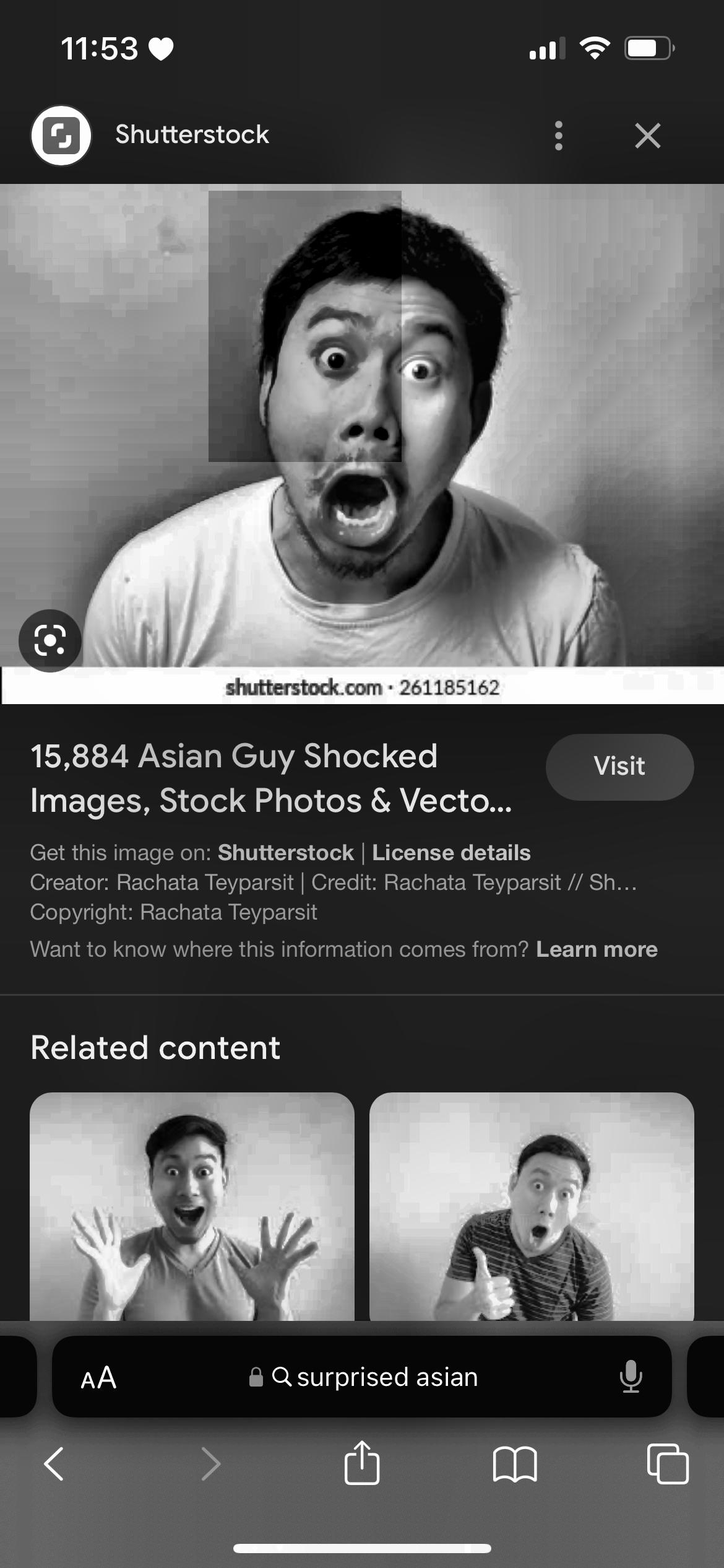surprised: (258, 236, 497, 571)
